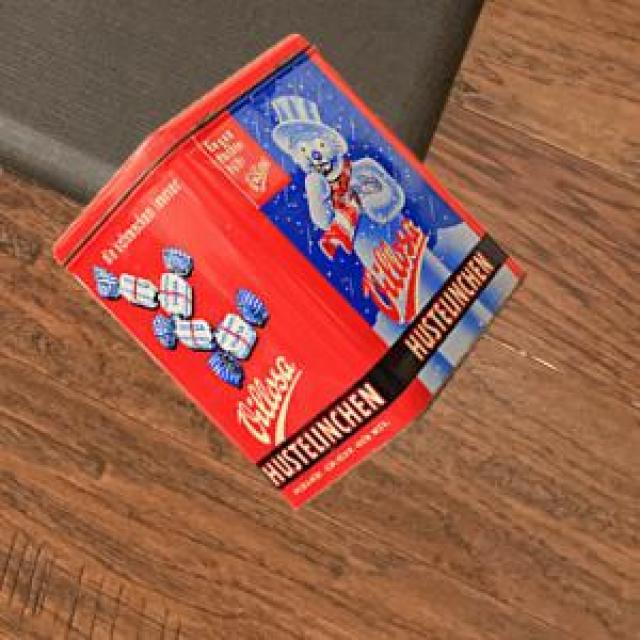logam: (50, 31, 524, 509)
